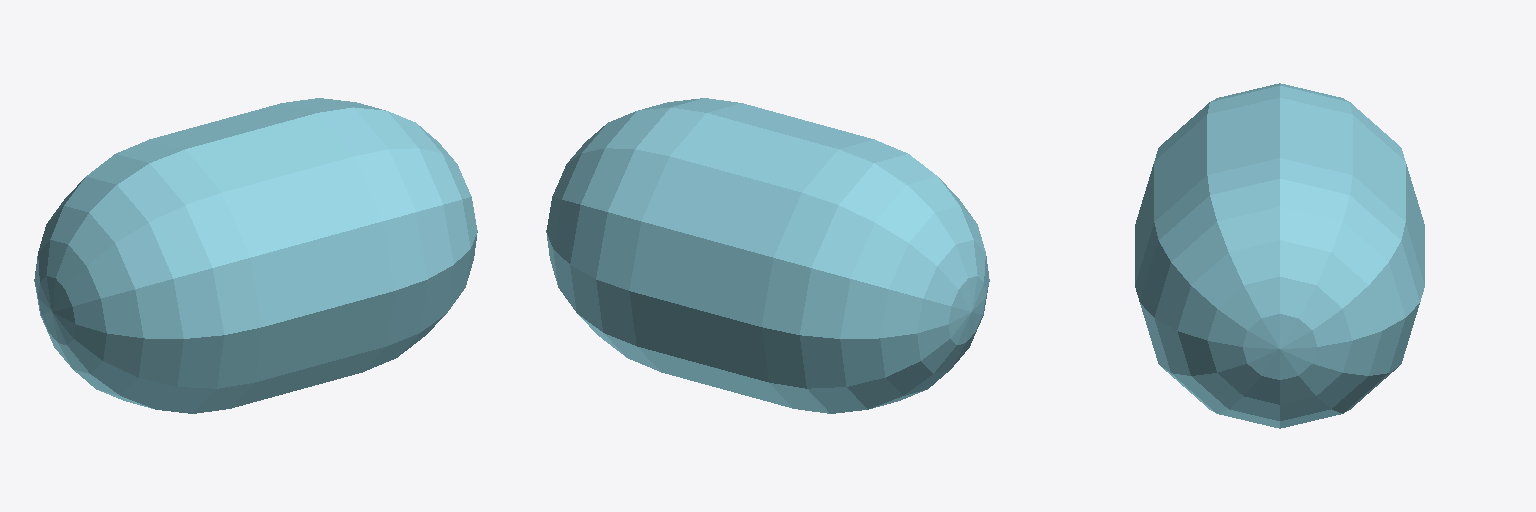
The model's file is player_eye.obj.
3 renders of one model, left to right at view 1: azimuth 30°, elevation 25°; view 2: azimuth 150°, elevation 25°; view 3: azimuth 270°, elevation 25°, orthographic.
Visible parts, largest first — view 1: Capsule001; view 2: Capsule001; view 3: Capsule001.
Part boxes in pixels (x1,y1,x2,y2): Capsule001: (34,98,477,413); Capsule001: (546,98,989,413); Capsule001: (1135,83,1424,428).
Size of the model in its own units: 13.23 by 7.94 by 8.16.